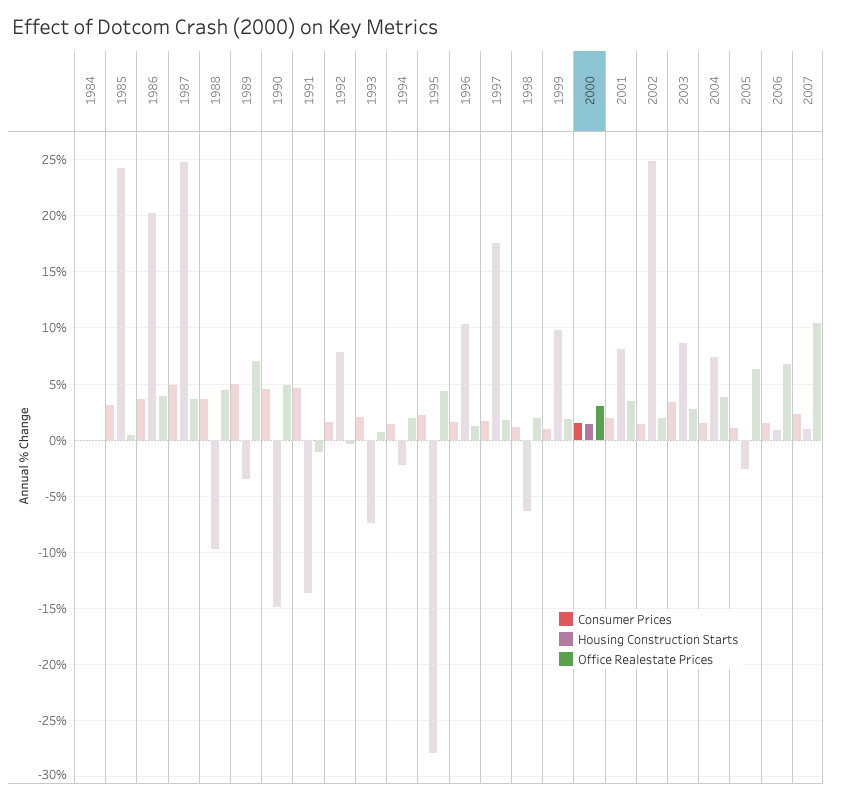

The dashboard page shown, as its layout file describes it:
{"tool":"tableau","page":{"name":"Task 8.2","canvas":[1000,800],"ordinal":6},"visuals":[{"type":"worksheet","title":"Task 8 |1987, 1992, 2000)","mark":"Bar","cols":["Year"],"box":[8,8,824,784]},{"type":"legend","title":"Task 8 |1987, 1992, 2000)","param":"[federated.1okl8ay0m9et4017je1rc01q96pp].[:Measure Names]","box":[560,613,187,60]}]}

Visuals, with their boxes on the page's 1000x800 design canvas (x1, y1, x2, y2). These are canvas units, not pixel positions in the 842x787 screenshot, which may show the page scaled, cropped or inside an application window:
"Task 8 |1987, 1992, 2000)" worksheet (Bar marks): <region>8, 8, 832, 792</region>
"Task 8 |1987, 1992, 2000)" legend: <region>560, 613, 747, 673</region>
